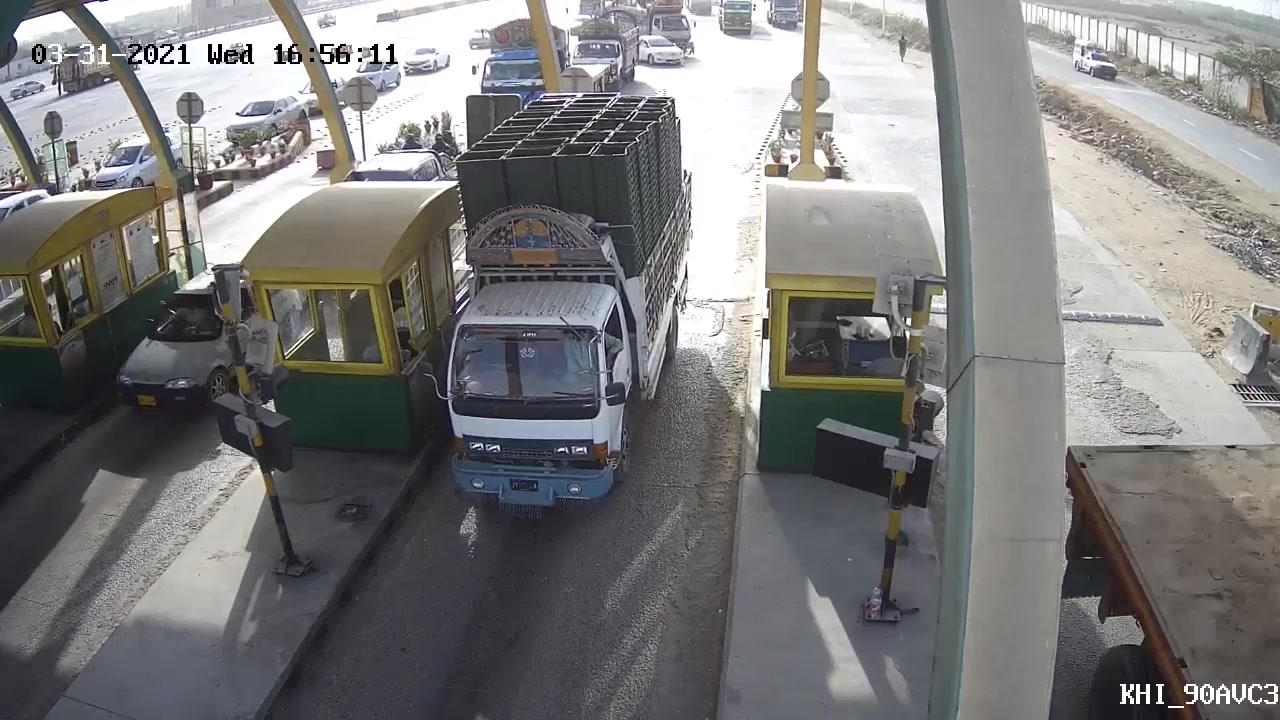F5: (442, 83, 690, 533)
